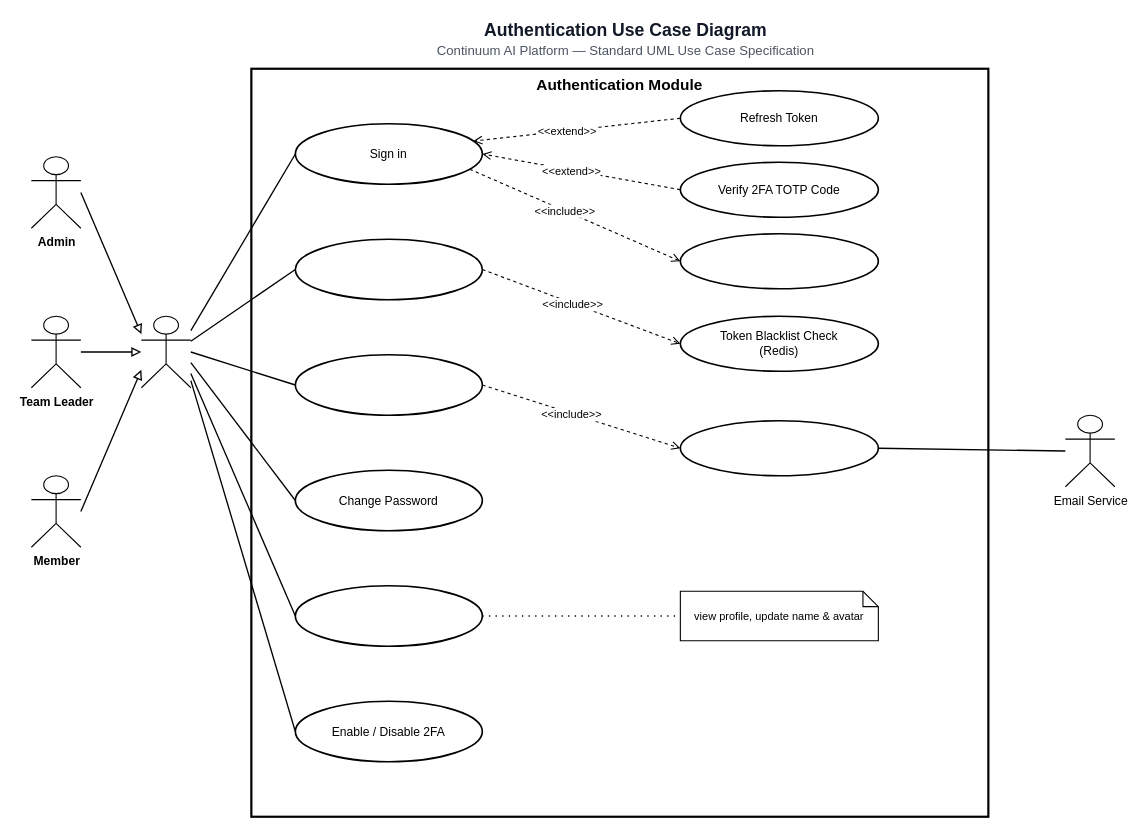
This 1146x837 diagram has some shape labels left out. Here are the shapes that lost their labels. From the top down, the box of each, then its label:
(294, 238, 483, 300): Logout
(679, 232, 879, 289): Validate JWT Claims
(140, 315, 191, 388): User
(294, 353, 483, 416): Forgot Password
(679, 419, 879, 476): Send Reset Email
(294, 584, 483, 647): Manage profile
